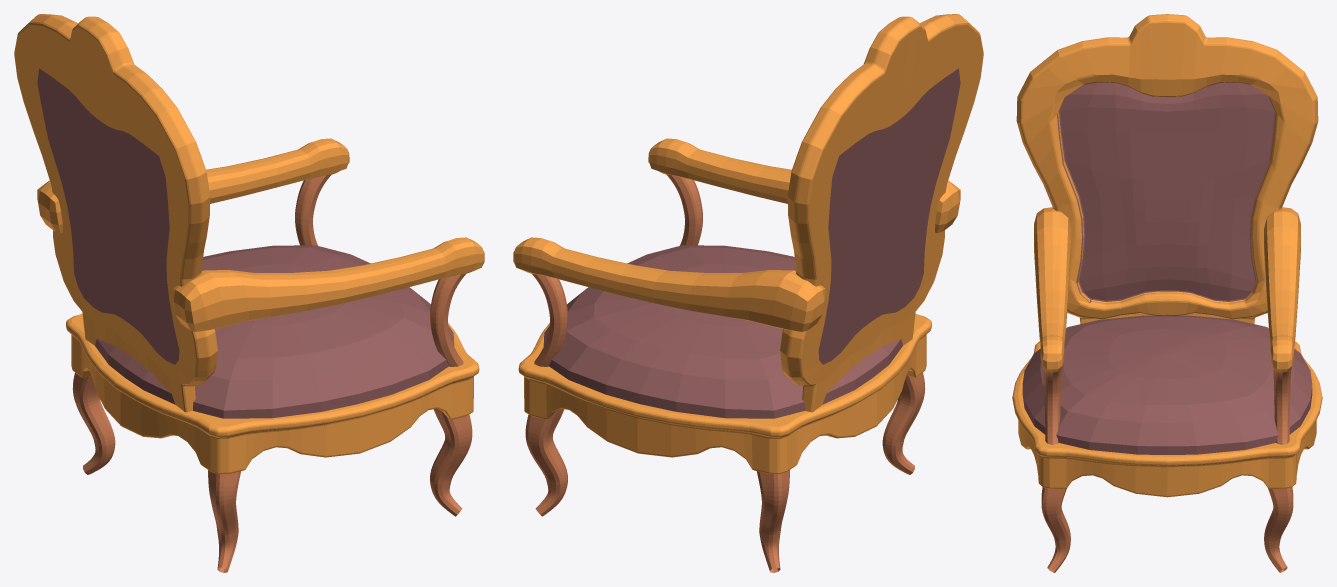
The model's file is Stuhl.glb.
3 views of the same model, side by side, from view 1: azimuth 30°, elevation 25°; view 2: azimuth 150°, elevation 25°; view 3: azimuth 270°, elevation 25° (orthographic). The views are drawn at different scales.
Visible parts, largest first — view 1: Tischbein RAW.001; view 2: Tischbein RAW.001; view 3: Tischbein RAW.001.
Boxes of the visible parts, bbox=[...] form: Tischbein RAW.001: bbox=[14, 14, 484, 572]; Tischbein RAW.001: bbox=[513, 14, 983, 572]; Tischbein RAW.001: bbox=[1012, 14, 1322, 572].
Size of the model in its own units: 0.7844 by 1.13 by 0.7236.
1 material, 1 textured.
